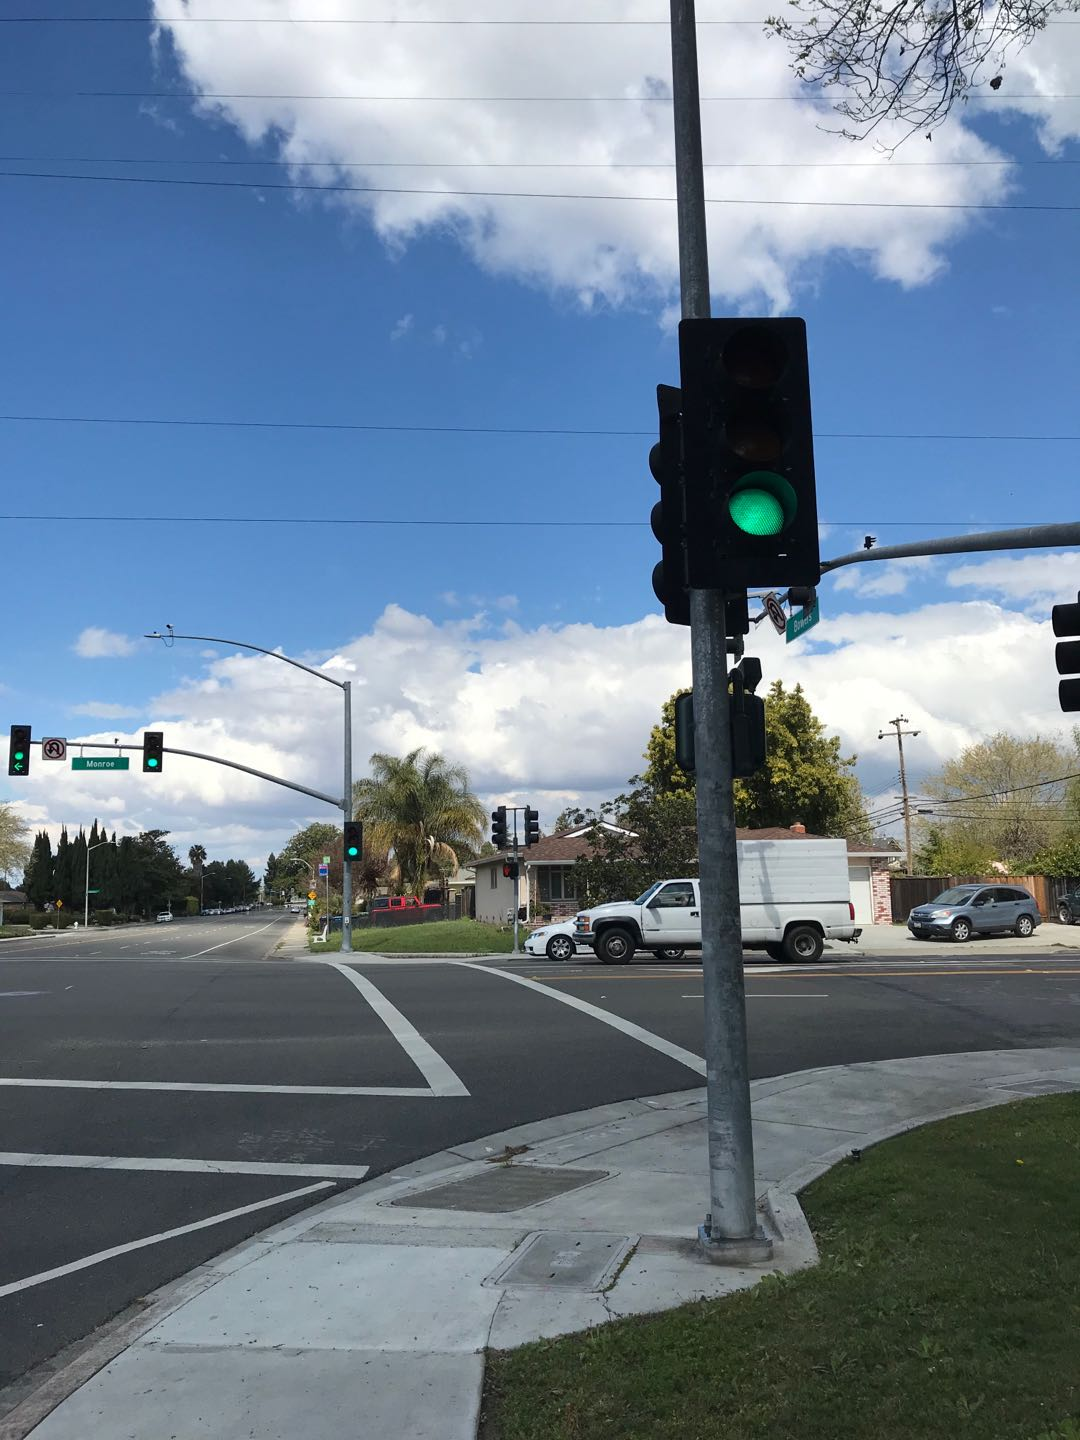green_light: (687, 323, 811, 584), (12, 727, 29, 773), (341, 822, 360, 863), (144, 735, 164, 769)
